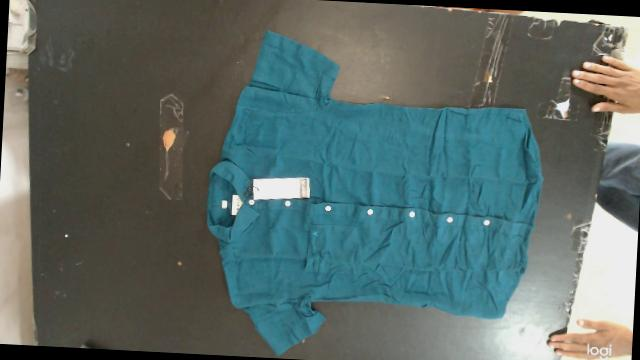new-garment: (206, 31, 541, 354)
